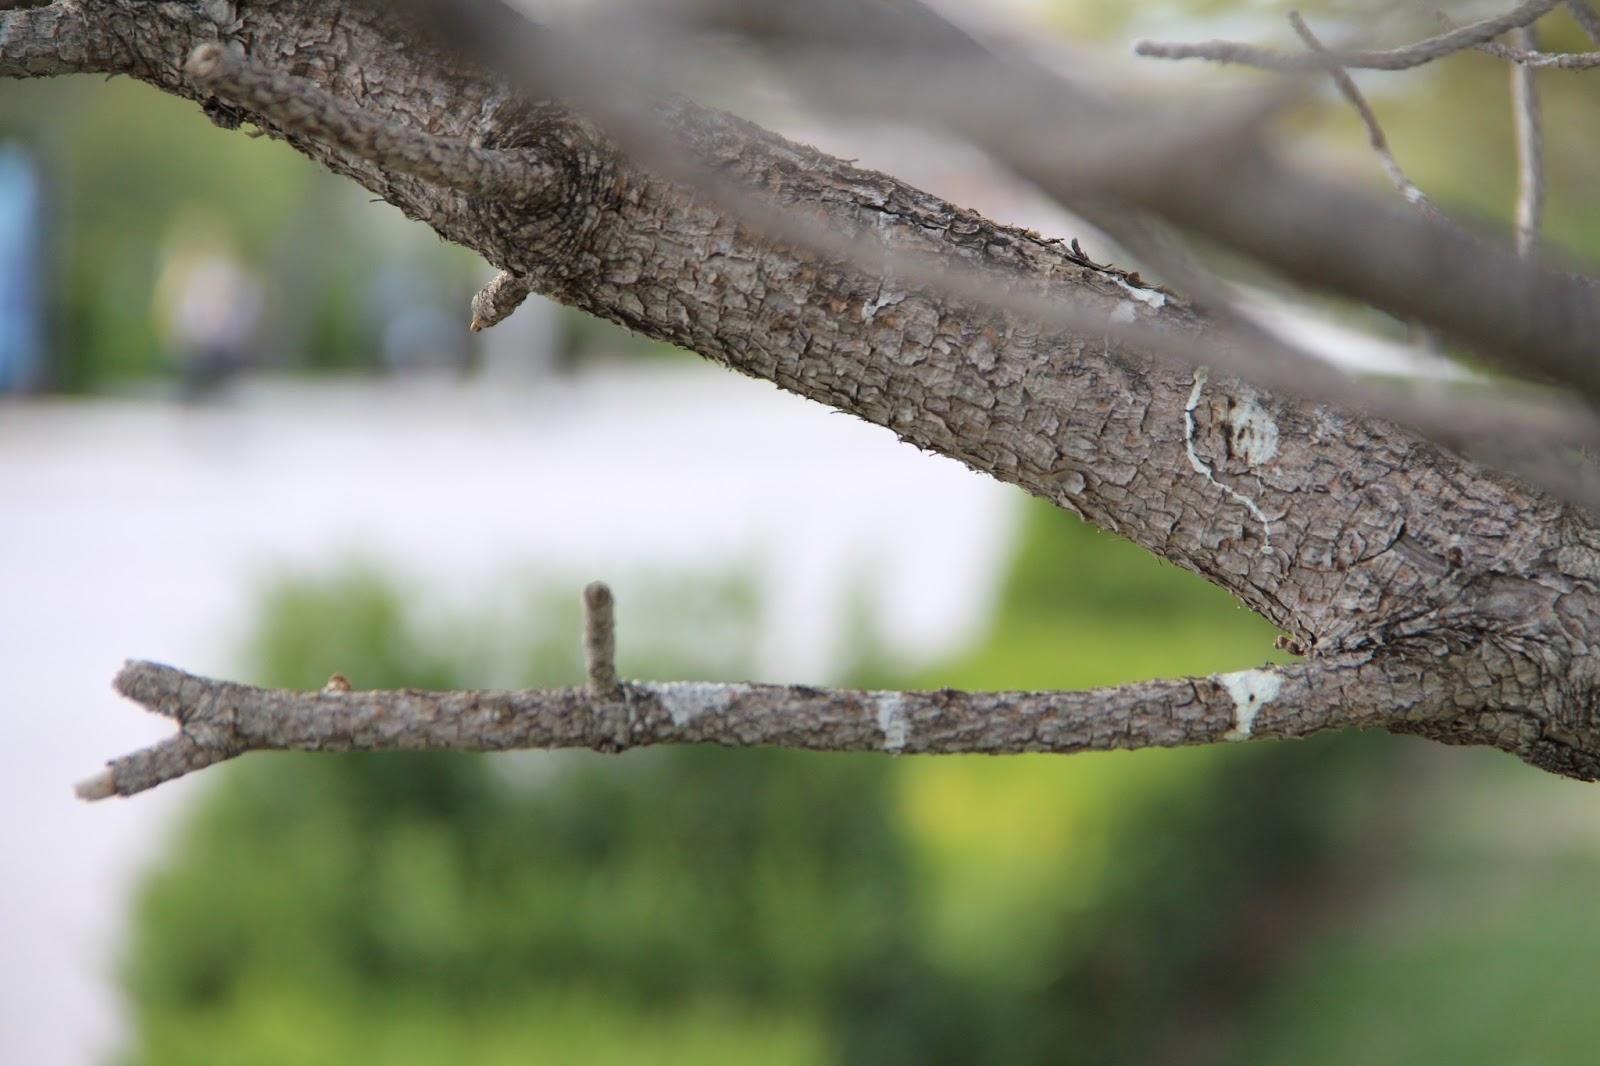branches_drying: (652, 102, 1219, 340)
